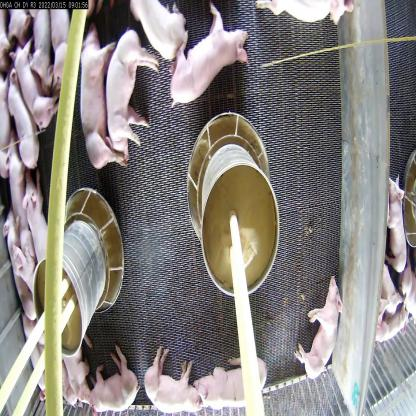Pig: (172, 3, 252, 108), (79, 25, 125, 179), (105, 27, 156, 141), (195, 346, 269, 415), (292, 283, 342, 383), (10, 38, 53, 132), (142, 350, 197, 415), (130, 0, 188, 59), (87, 347, 135, 415), (383, 174, 414, 272), (20, 174, 51, 262), (6, 79, 34, 172)
